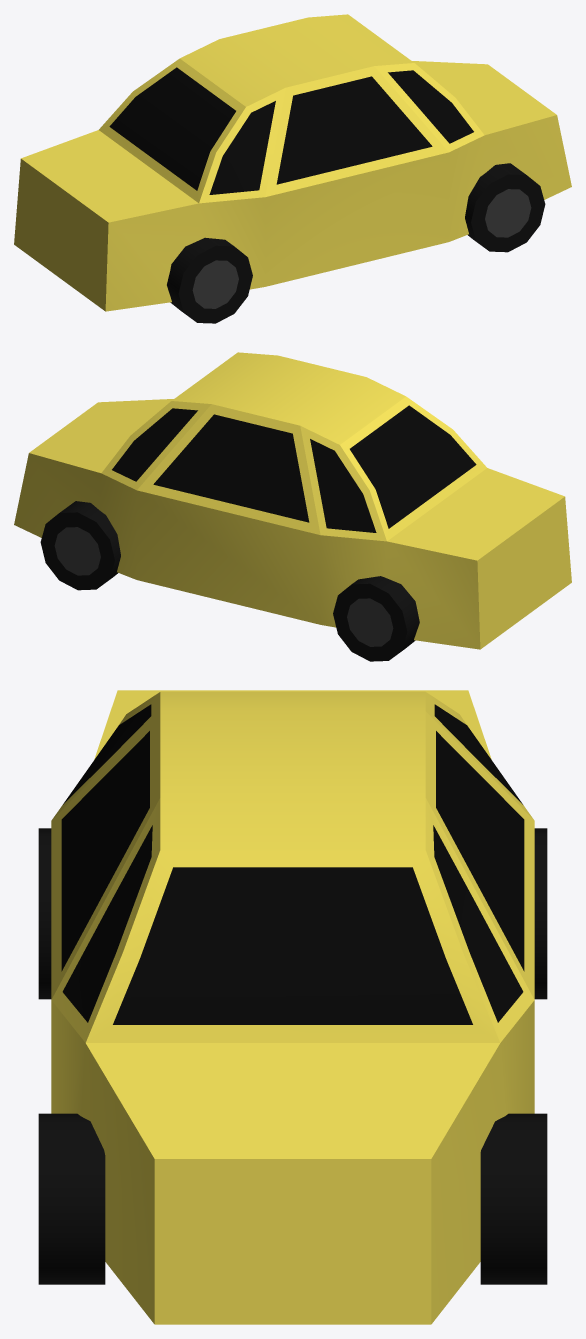
The model's file is Car_Yellow.FBX.
3 views of the same model, one above another, from view 1: azimuth 30°, elevation 25°; view 2: azimuth 150°, elevation 25°; view 3: azimuth 270°, elevation 25° (orthographic). The views are drawn at different scales.
Parts seen in each view (by area): view 1: Car_Yellow; view 2: Car_Yellow; view 3: Car_Yellow.
Part boxes in pixels (x1,y1,x2,y2): Car_Yellow: (14, 14, 571, 323); Car_Yellow: (14, 352, 571, 661); Car_Yellow: (38, 690, 547, 1324).
Bounding box in the file's own units: 749 × 283 × 345.
